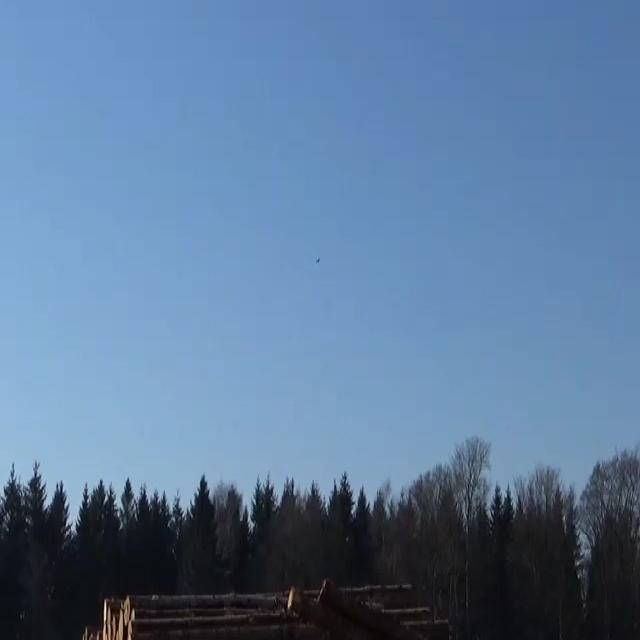bird: (312, 254, 324, 265)
